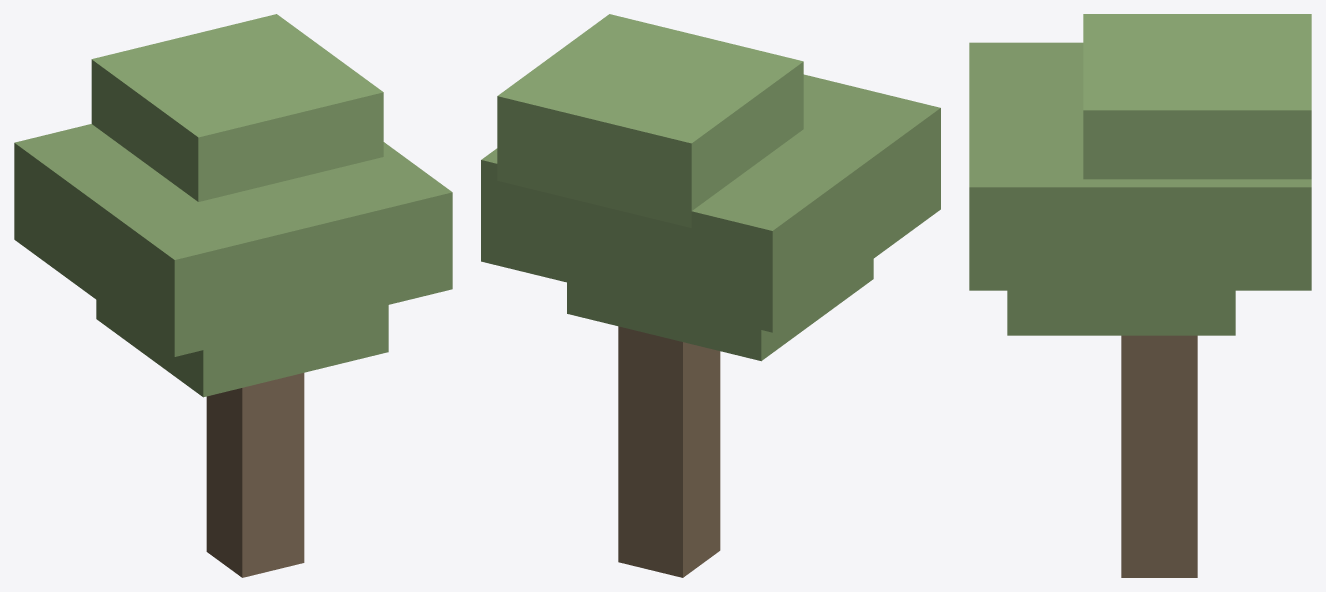
File: alamo_03.glb
3 views of the same model, side by side, from view 1: azimuth 30°, elevation 25°; view 2: azimuth 150°, elevation 25°; view 3: azimuth 270°, elevation 25° (orthographic). The views are drawn at different scales.
Visible parts, largest first — view 1: alamo_03; view 2: alamo_03; view 3: alamo_03.
Part boxes in pixels (x1=…): alamo_03: x1=14, y1=14, x2=452, y2=577; alamo_03: x1=481, y1=14, x2=940, y2=577; alamo_03: x1=969, y1=14, x2=1311, y2=577.
Bounding box in the file's own units: 1.8 × 2.9 × 1.8.
